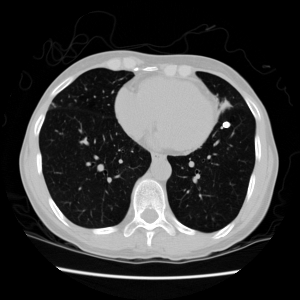nodule: (222, 121, 230, 129)
